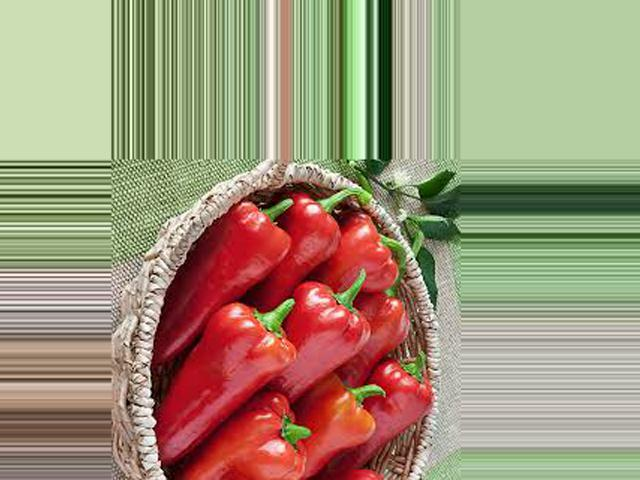bell_pepper: (279, 179, 351, 269)
